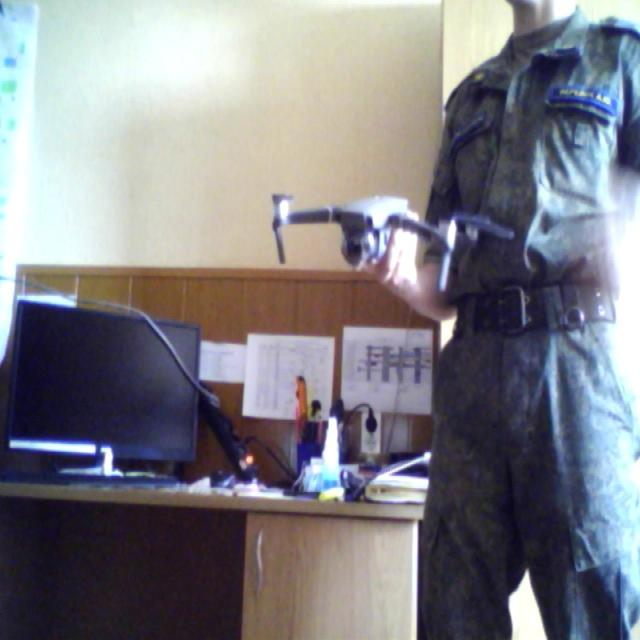drone: (264, 171, 500, 304)
